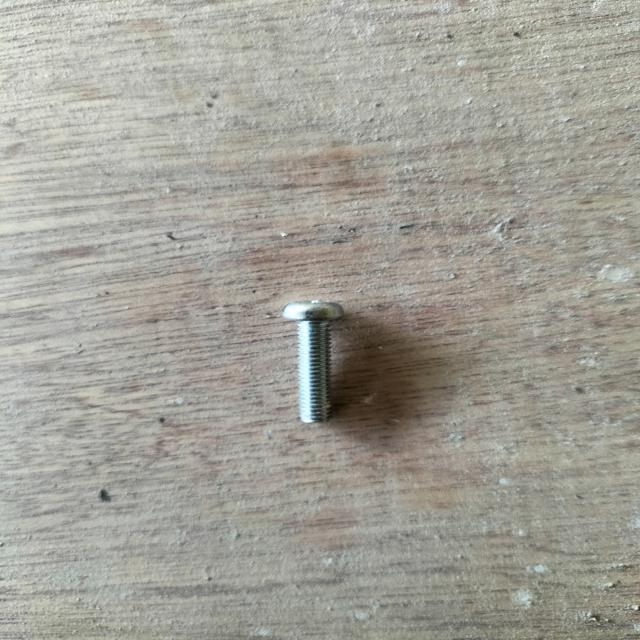bolt: (281, 300, 349, 422)
